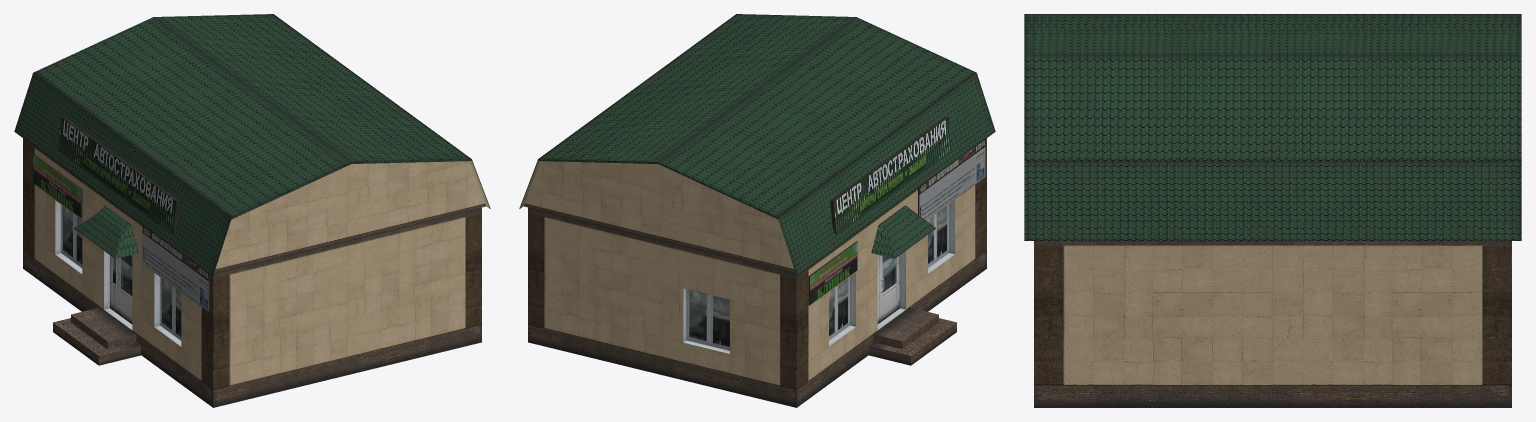
The model's file is r402_ishim_strahovaya2.FBX.
3 views of the same model, side by side, from view 1: azimuth 30°, elevation 25°; view 2: azimuth 150°, elevation 25°; view 3: azimuth 270°, elevation 25° (orthographic). The views are drawn at different scales.
Visible parts, largest first — view 1: r402_ishim_strahovaya2; view 2: r402_ishim_strahovaya2; view 3: r402_ishim_strahovaya2.
Boxes of the visible parts, bbox=[...] form: r402_ishim_strahovaya2: bbox=[14, 14, 490, 407]; r402_ishim_strahovaya2: bbox=[519, 14, 995, 407]; r402_ishim_strahovaya2: bbox=[1024, 14, 1521, 407].
Bounding box in the file's own units: 9.83 × 10.69 × 6.44.
